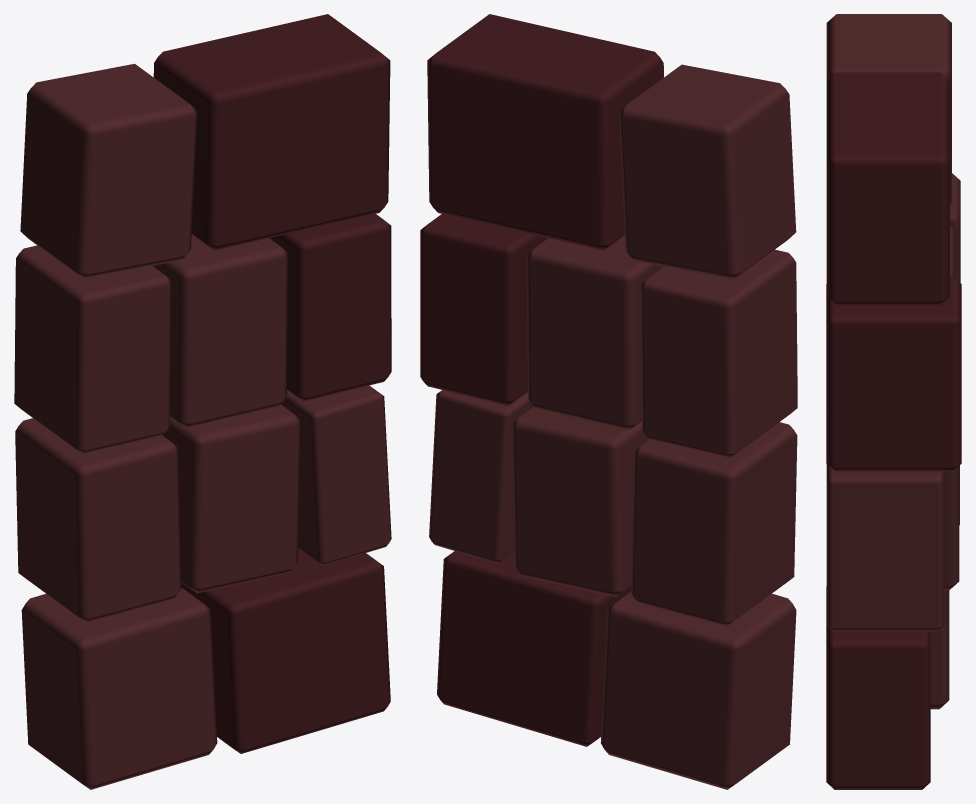
The model's file is living-cave-cliff-face.97fded58.glb.
The picture shows the model from 3 angles, left to right: view 1: azimuth 30°, elevation 25°; view 2: azimuth 150°, elevation 25°; view 3: azimuth 270°, elevation 25°; orthographic projection. The views are drawn at different scales.
Visible parts, largest first — view 1: body; view 2: body; view 3: body.
Part boxes in pixels (x1=…): body: x1=14, y1=14, x2=391, y2=789; body: x1=420, y1=14, x2=797, y2=789; body: x1=826, y1=14, x2=961, y2=789.
Size of the model in its own units: 0.9796 by 1.98 by 0.375.
